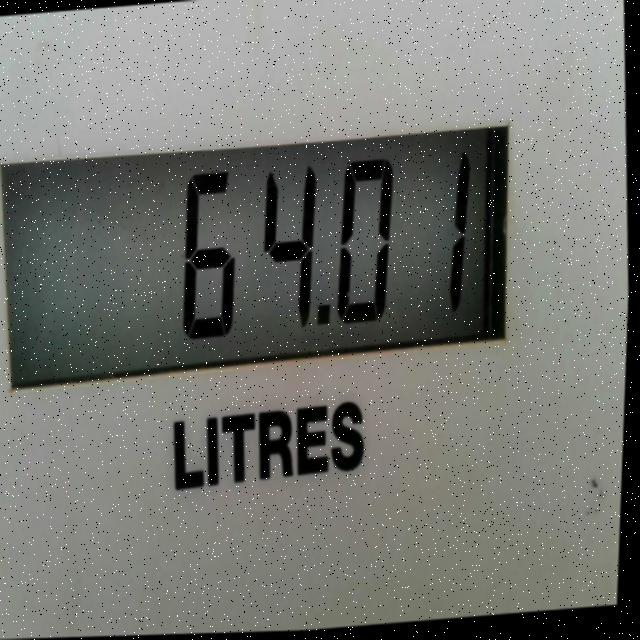.: (312, 288, 344, 352)
0: (328, 145, 406, 341)
1: (428, 130, 492, 330)
4: (252, 165, 328, 356)
6: (162, 162, 259, 361)
